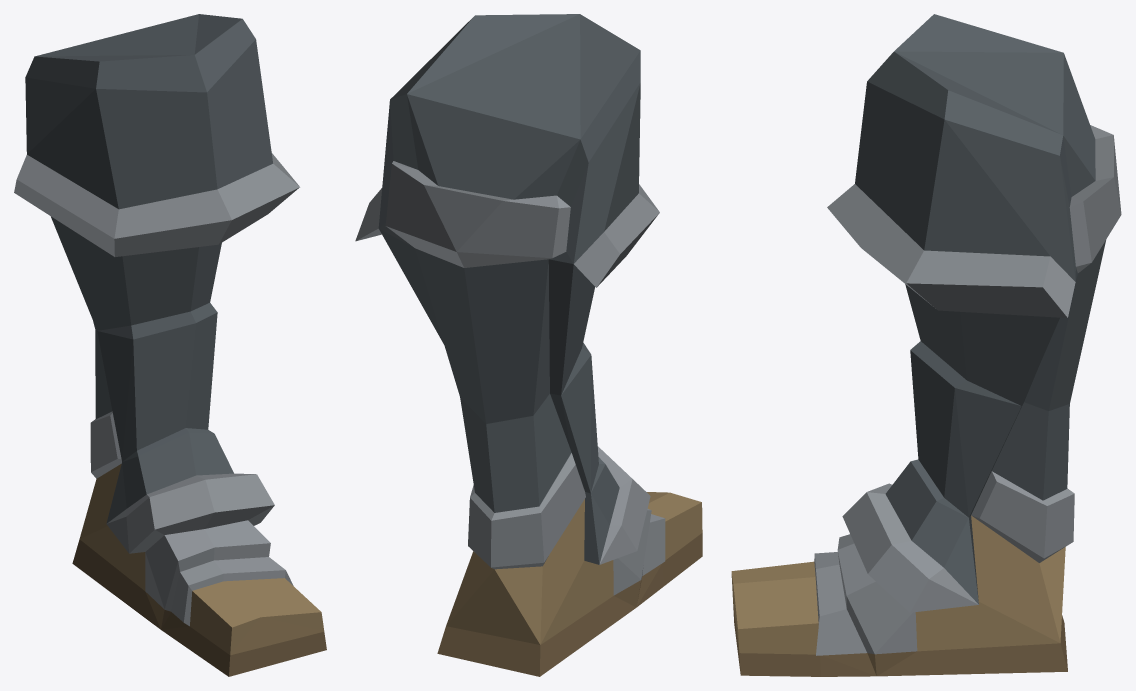
File: Chr_LegLeft_Female_06_Static.fbx
3 views of the same model, side by side, from view 1: azimuth 30°, elevation 25°; view 2: azimuth 150°, elevation 25°; view 3: azimuth 270°, elevation 25° (orthographic). The views are drawn at different scales.
Parts seen in each view (by area): view 1: Chr_LegLeft_Female_06_Static; view 2: Chr_LegLeft_Female_06_Static; view 3: Chr_LegLeft_Female_06_Static.
Part boxes in pixels (x1=…): Chr_LegLeft_Female_06_Static: x1=14, y1=14, x2=326, y2=676; Chr_LegLeft_Female_06_Static: x1=355, y1=14, x2=702, y2=676; Chr_LegLeft_Female_06_Static: x1=731, y1=14, x2=1121, y2=676.
Bounding box in the file's own units: 0.1812 × 0.4043 × 0.241.
